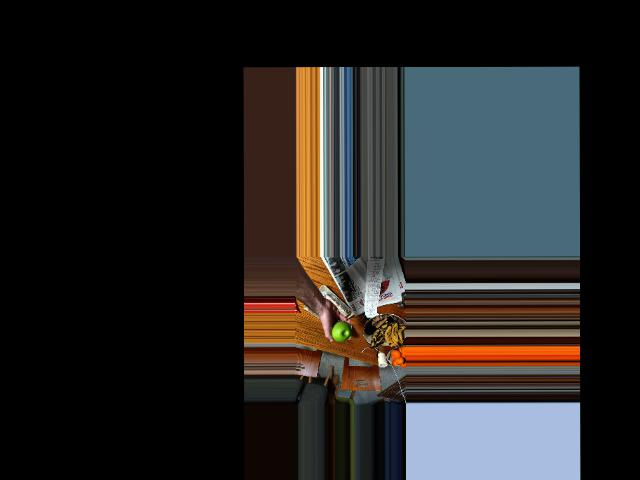apple: (331, 320, 350, 342)
